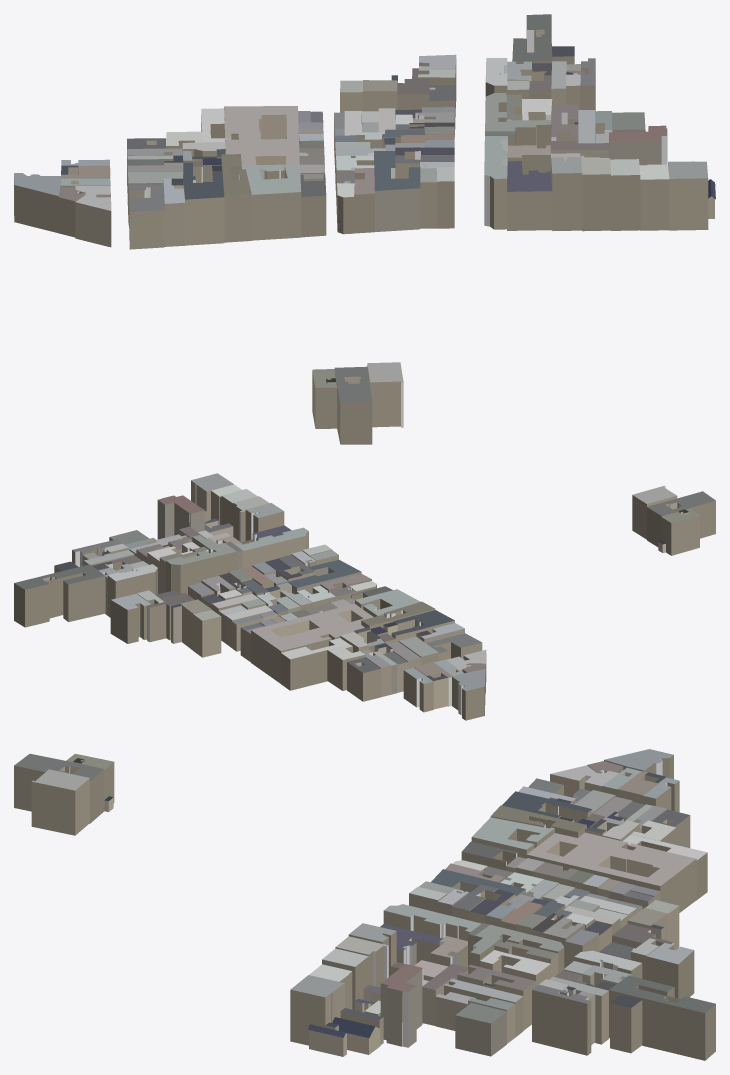
The picture shows the model from 3 angles, top to bottom: view 1: azimuth 30°, elevation 25°; view 2: azimuth 150°, elevation 25°; view 3: azimuth 270°, elevation 25°; orthographic projection. The views are drawn at different scales.
Visible parts, largest first — view 1: tuile; view 2: tuile; view 3: tuile.
Part boxes in pixels (box(x1,y1,x2,y2)): tuile: box(14, 14, 715, 444); tuile: box(14, 473, 715, 720); tuile: box(14, 749, 715, 1060).
Bounding box in the file's own units: 262 × 26.27 × 281.
